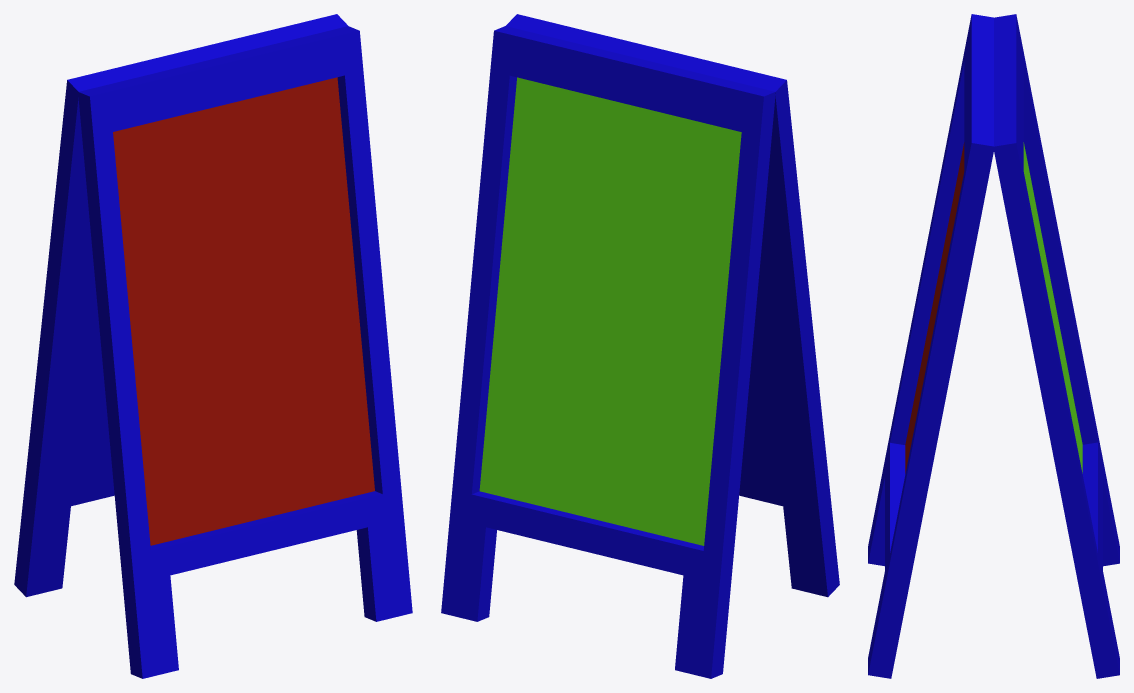
The model's file is Chalk Board.fbx.
The picture shows the model from 3 angles, left to right: view 1: azimuth 30°, elevation 25°; view 2: azimuth 150°, elevation 25°; view 3: azimuth 270°, elevation 25°; orthographic projection. The views are drawn at different scales.
Parts seen in each view (by area): view 1: Chalk Board; view 2: Chalk Board; view 3: Chalk Board.
Part boxes in pixels (bbox=[...]): Chalk Board: bbox=[14, 14, 412, 678]; Chalk Board: bbox=[441, 14, 839, 678]; Chalk Board: bbox=[868, 14, 1119, 678].
Size of the model in its own units: 81.77 by 158 by 67.43.
